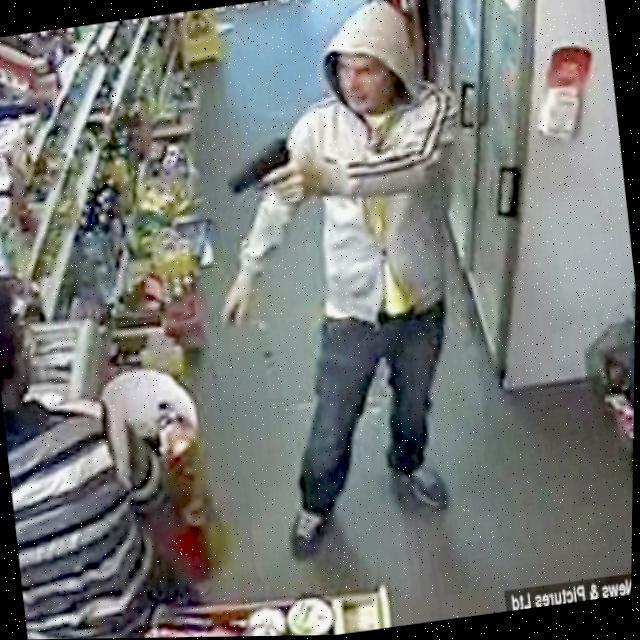pistol: (221, 134, 298, 199)
